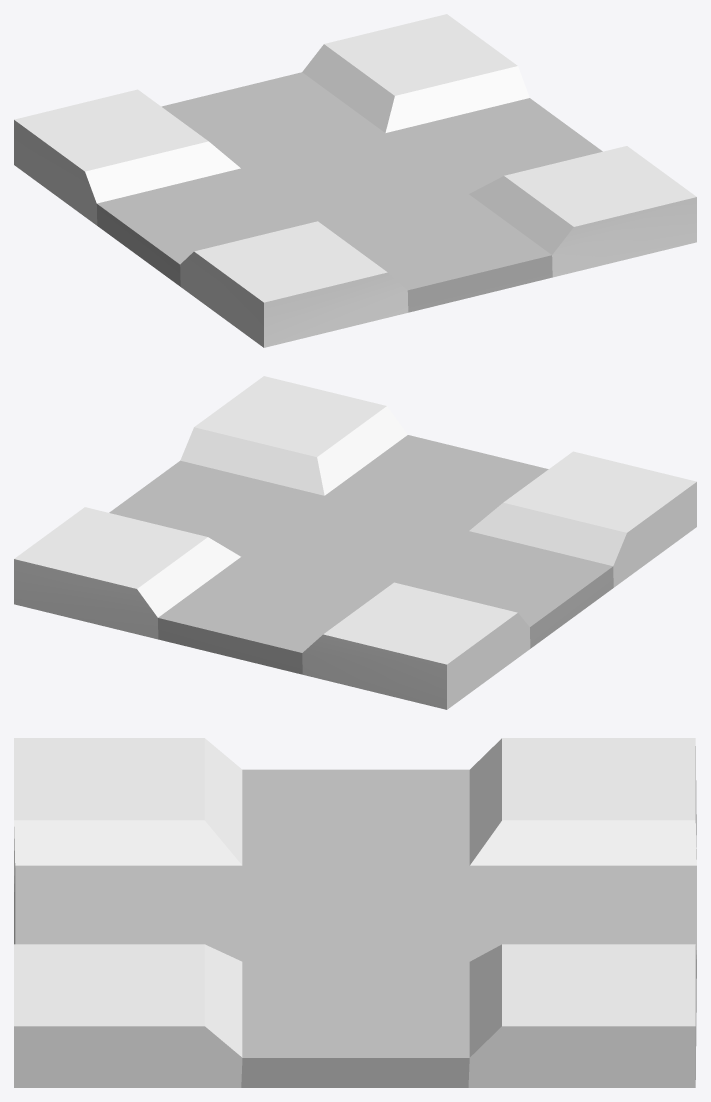
File: ForestRiverCrossing.obj
3 views of the same model, one above another, from view 1: azimuth 30°, elevation 25°; view 2: azimuth 150°, elevation 25°; view 3: azimuth 270°, elevation 25° (orthographic). The views are drawn at different scales.
Parts seen in each view (by area): view 1: ForestCrossing_01_Plane.001; view 2: ForestCrossing_01_Plane.001; view 3: ForestCrossing_01_Plane.001.
Part boxes in pixels (<box>): ForestCrossing_01_Plane.001: <box>14,14,696,347</box>; ForestCrossing_01_Plane.001: <box>14,376,696,709</box>; ForestCrossing_01_Plane.001: <box>14,738,696,1087</box>.
Size of the model in its own units: 1 by 0.1 by 1.
